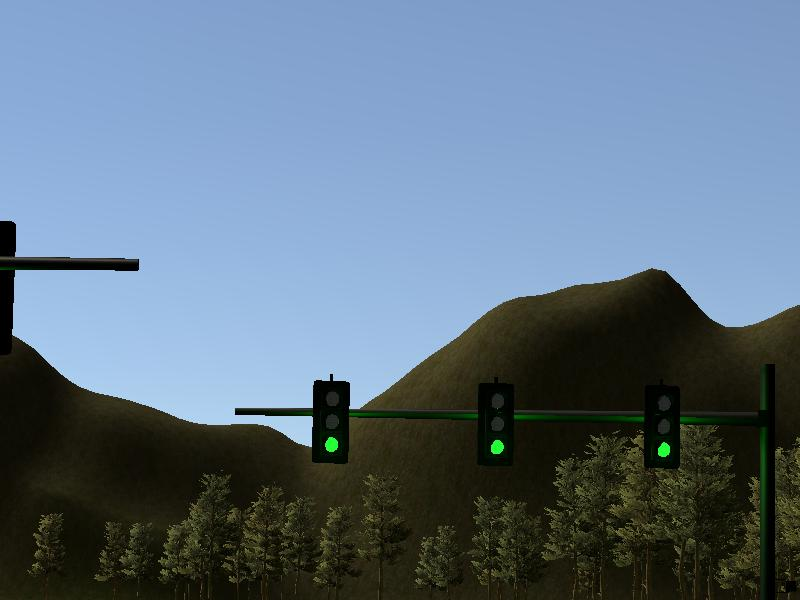Green: (478, 383, 511, 465), (645, 387, 678, 469), (314, 381, 347, 462)
